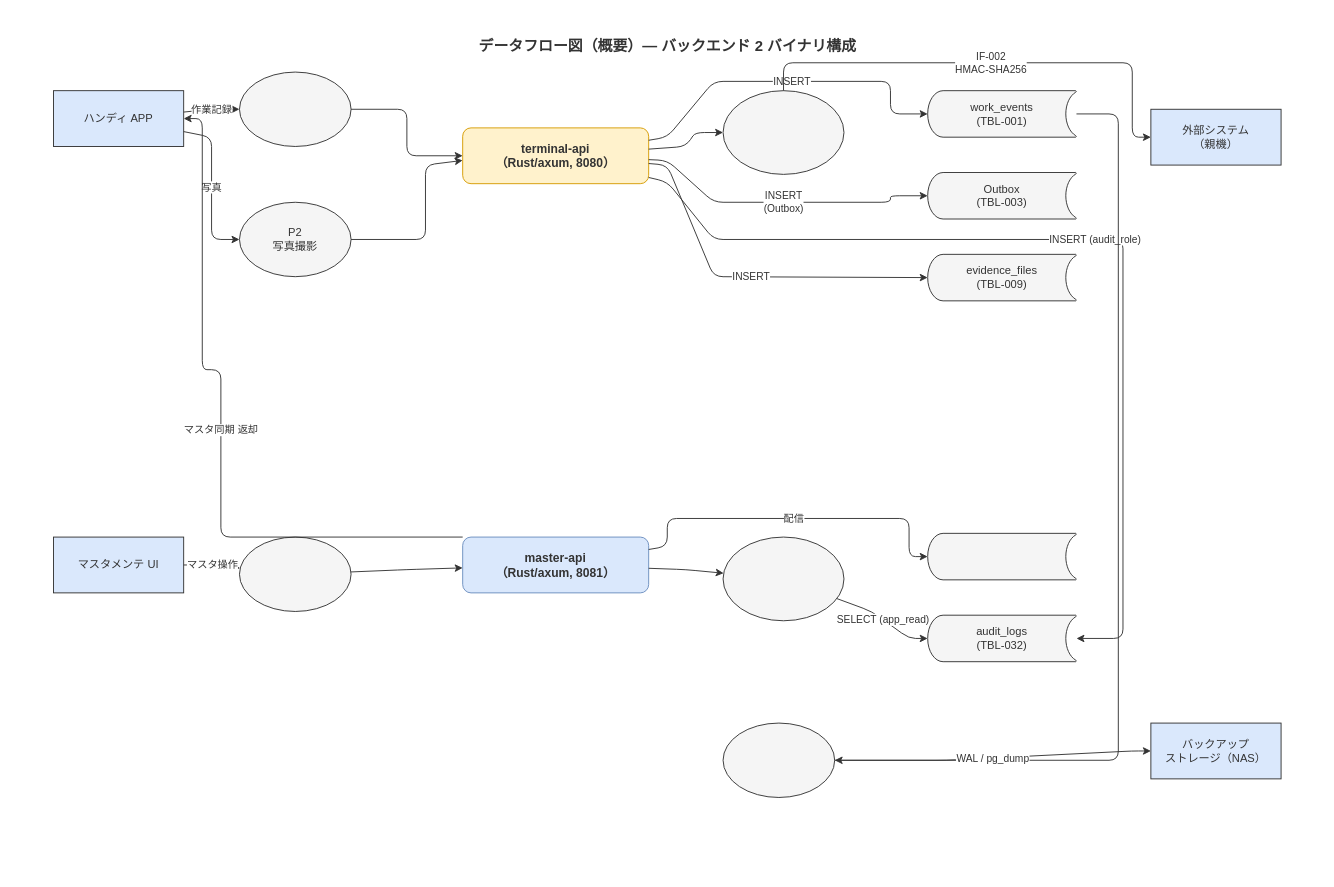
This 1334x887 diagram has some shape labels left out. Each missing label, with the centre of its shape:
"P1 Step 実行" belongs at point 295,108.
"P3 マスタ同期" belongs at point 295,573.
"P4 Outbox 送信 (tokio task)" belongs at point 783,132.
"P5 バックアップ" belongs at point 778,759.
"P6 監査照会 XES エクスポート" belongs at point 783,578.
"SOPs / steps" belongs at point 1001,556.
